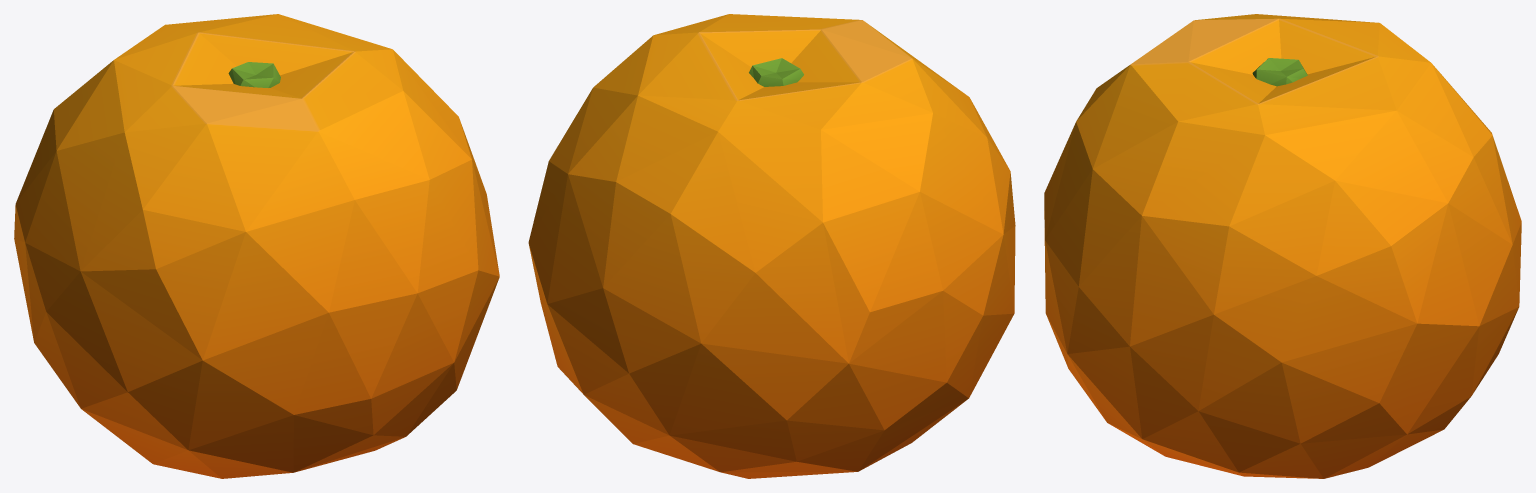
File: SM_Food_Orange.fbx
3 views of the same model, side by side, from view 1: azimuth 30°, elevation 25°; view 2: azimuth 150°, elevation 25°; view 3: azimuth 270°, elevation 25° (orthographic).
Parts seen in each view (by area): view 1: SM_Food_Orange; view 2: SM_Food_Orange; view 3: SM_Food_Orange.
Boxes of the visible parts, x1=… form: SM_Food_Orange: x1=14, y1=14, x2=499, y2=478; SM_Food_Orange: x1=528, y1=14, x2=1015, y2=478; SM_Food_Orange: x1=1044, y1=14, x2=1521, y2=478.
Size of the model in its own units: 16.83 by 14.18 by 16.53.
